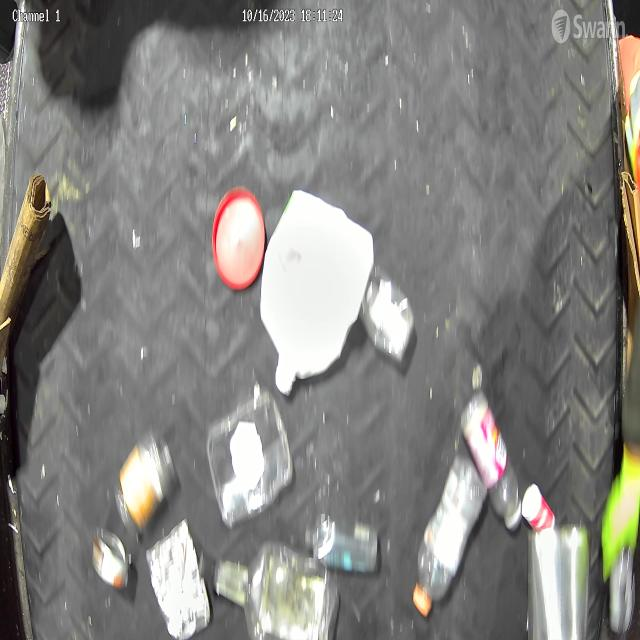can: (90, 532, 131, 587)
milk_jug: (268, 194, 378, 382)
plastic_bottle: (413, 453, 486, 614), (461, 390, 521, 520), (301, 509, 376, 571)
